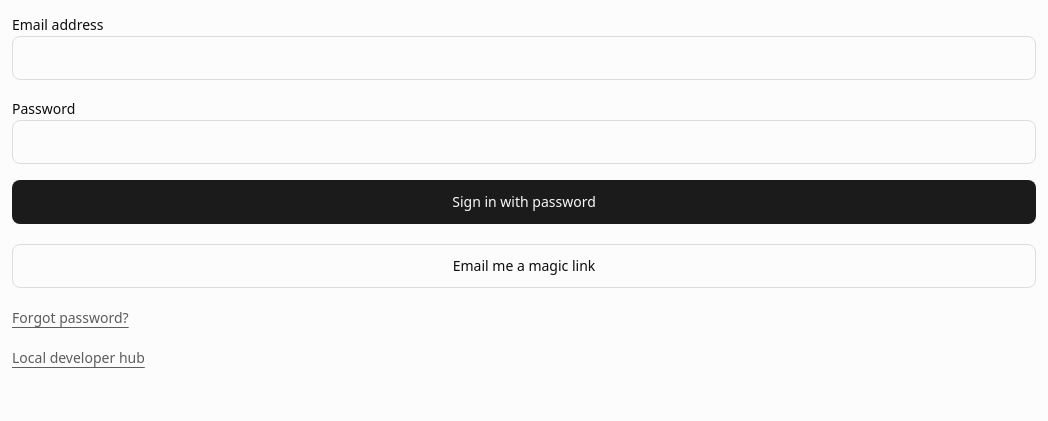
SignInForm local development assistance › does not claim a mailbox follow-up when the request fails
Type "anyone@example.com" into the field labelled "Email address" at (524, 58), box [12, 36, 1036, 80]
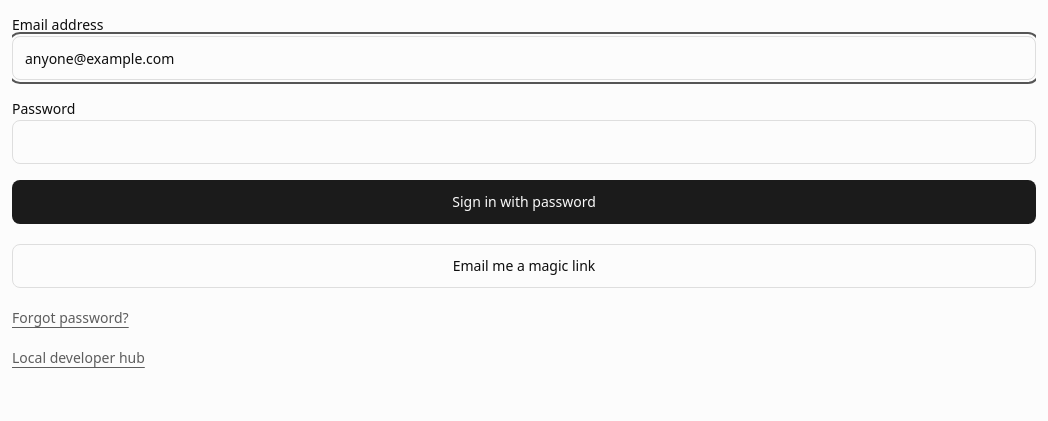
Click the button "Email me a magic link" at (524, 266), box [12, 244, 1036, 288]
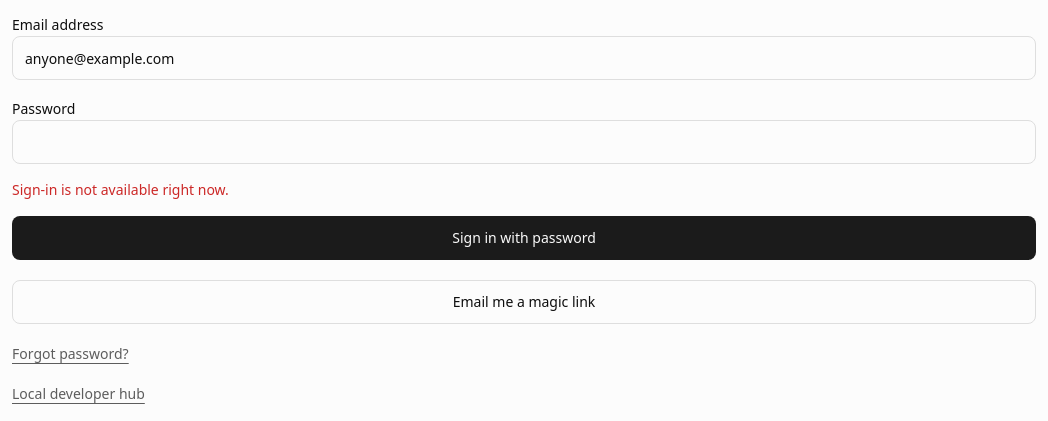
Now the message reads "Sign-in is not available right now.", box [12, 180, 229, 199]
